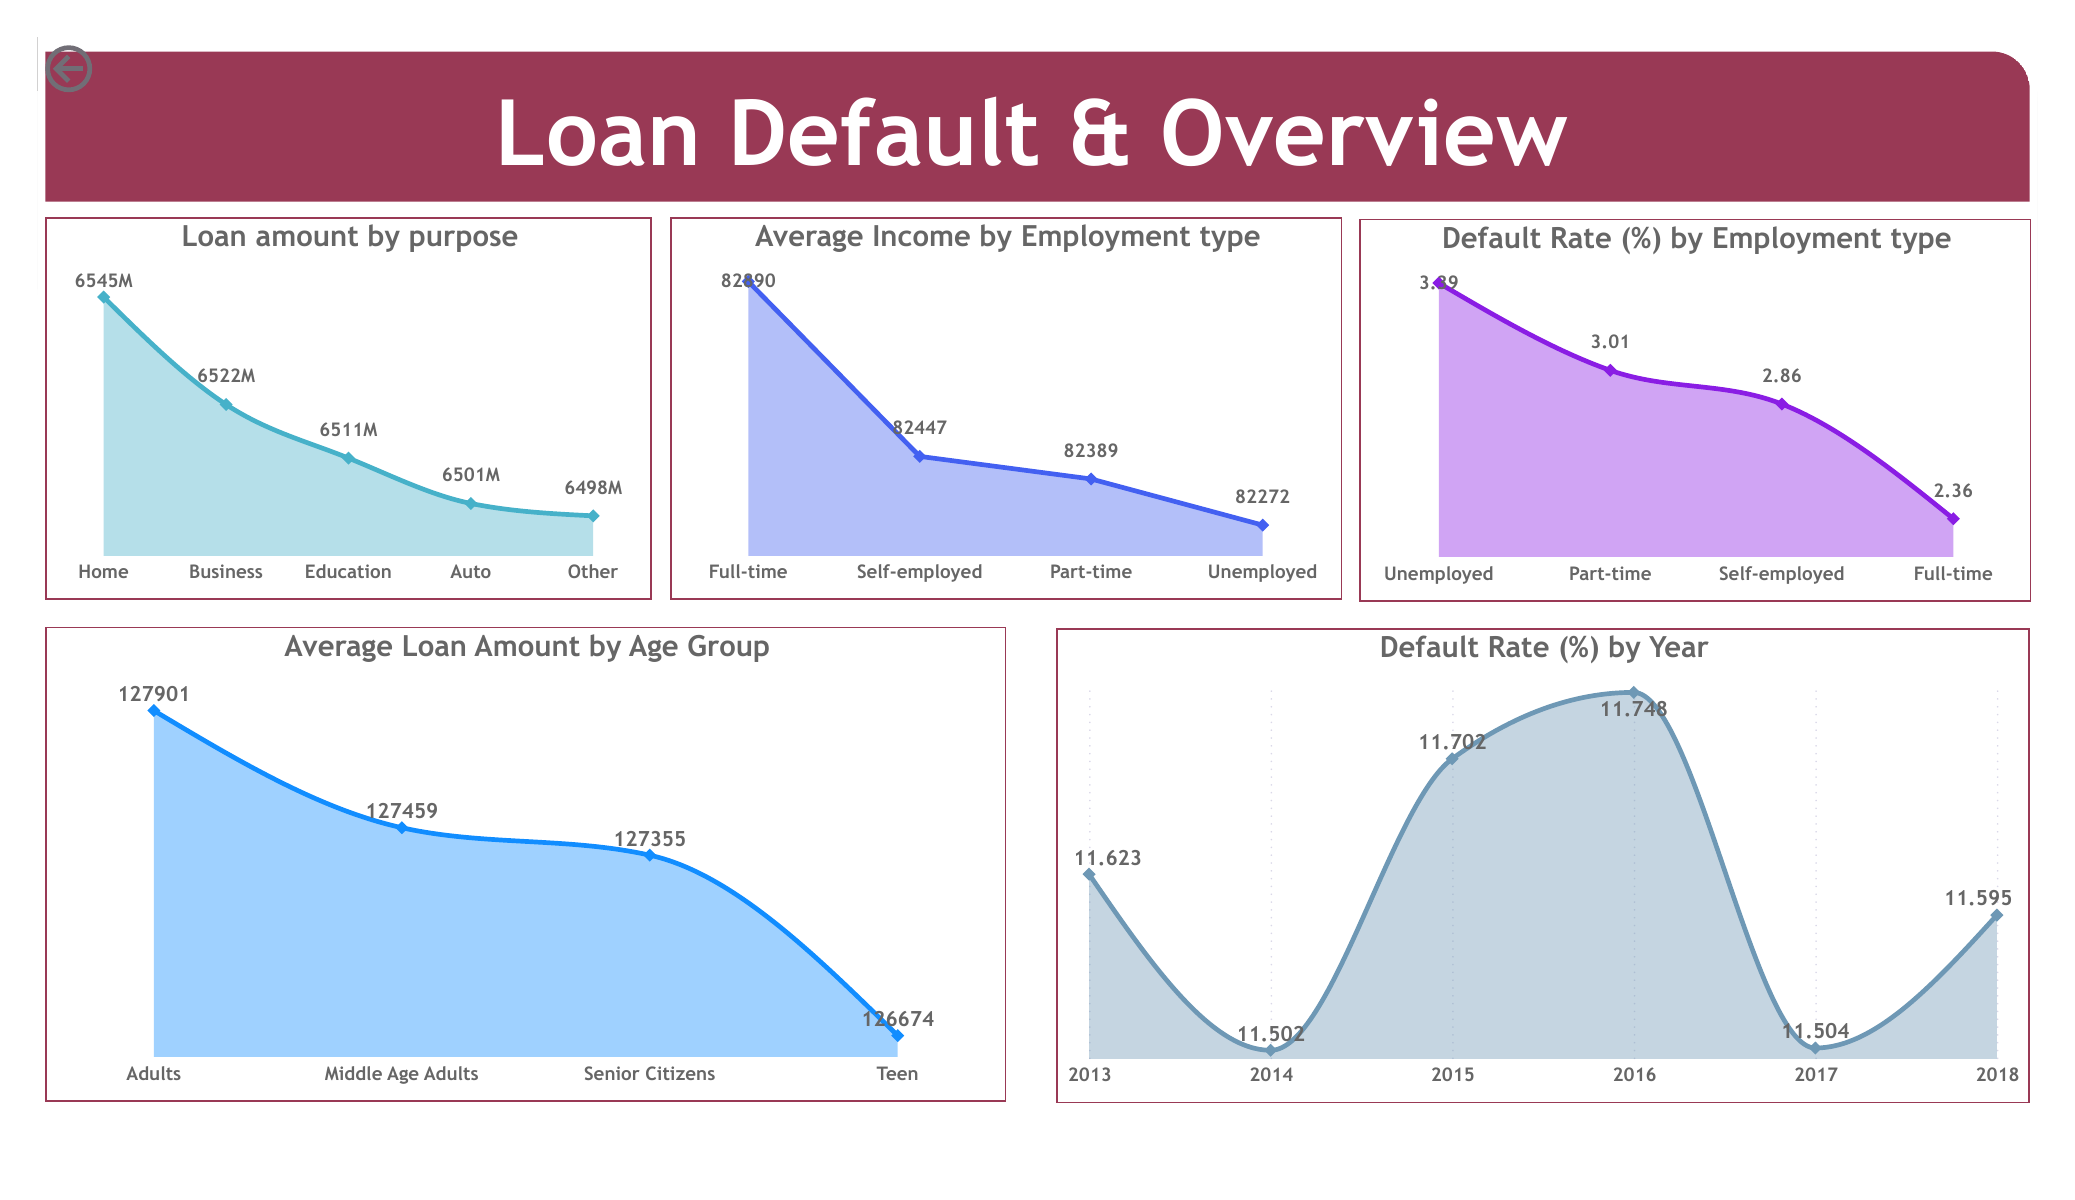

The page's visual inventory and layout, read from the dashboard file:
{"tool":"powerbi","page":{"name":"Loan Default & Overview","canvas":[1280,720],"ordinal":0},"visuals":[{"type":"shape","box":[4.6,9.1,1270,95.6],"z":0},{"type":"lineChart","title":"Loan amount by purpose","fields":{"Y":["Measure1.Loan amount by purpose"],"Category":["Loan_default.LoanPurpose"]},"box":[4.6,114.9,388,244.7],"z":1000},{"type":"lineChart","title":"Average Income by Employment type","fields":{"Category":["Loan_default.EmploymentType"],"Y":["Measure1.Average Income by Employment type"]},"box":[405.1,114.9,430.2,244.7],"z":2000},{"type":"actionButton","box":[0,0,100,40],"z":3000},{"type":"lineChart","title":"Default Rate (%) by Employment type","fields":{"Category":["Loan_default.EmploymentType"],"Y":["Measure1.Default Rate by Employment type"]},"box":[845.5,116.1,430.2,244.7],"z":4000},{"type":"lineChart","title":"Average Loan Amount by Age Group","fields":{"Category":["Loan_default.Age Groups"],"Y":["Avg(Loan_default.LoanAmount)"]},"box":[4.6,376.7,615.6,303.8],"z":5000},{"type":"lineChart","title":"Default Rate (%) by Year","fields":{"Y":["Measure1.Default Rate by Year"],"Category":["Loan_default.Year"]},"box":[652.1,377.8,622.5,303.8],"z":6000}]}

Visuals, with their boxes on the page's 1280x720 design canvas (x1, y1, x2, y2). These are canvas units, not pixel positions in the 2075x1200 screenshot, which may show the page scaled, cropped or inside an application window:
shape: select_region(5, 9, 1275, 105)
"Loan amount by purpose" lineChart: select_region(5, 115, 393, 360)
"Average Income by Employment type" lineChart: select_region(405, 115, 835, 360)
actionButton: select_region(0, 0, 100, 40)
"Default Rate (%) by Employment type" lineChart: select_region(846, 116, 1276, 361)
"Average Loan Amount by Age Group" lineChart: select_region(5, 377, 620, 680)
"Default Rate (%) by Year" lineChart: select_region(652, 378, 1275, 682)
